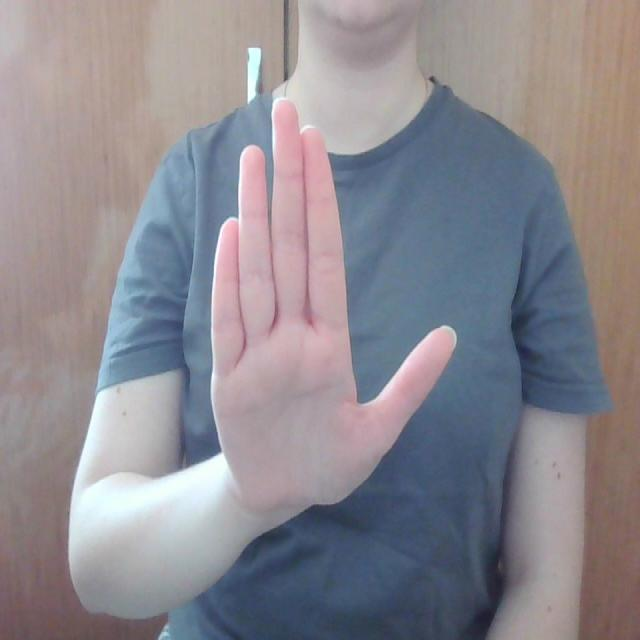Dur: (151, 92, 470, 508)
